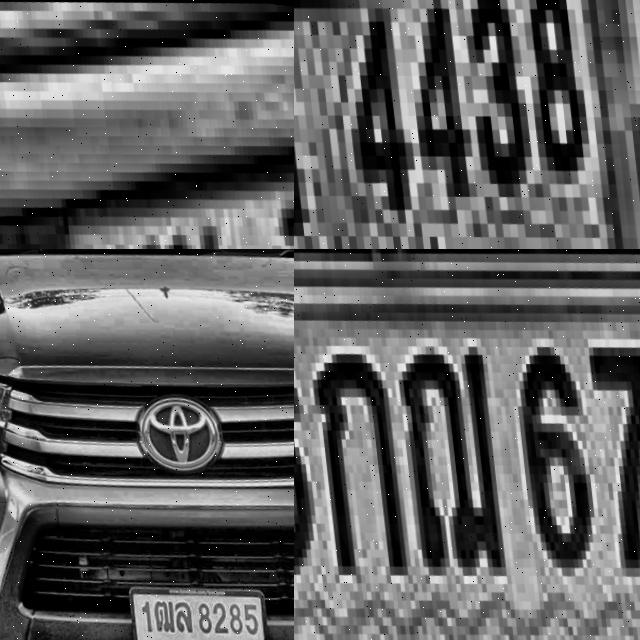license-plate: (294, 249, 640, 640), (294, 0, 640, 249), (0, 10, 294, 249), (122, 556, 268, 640)
